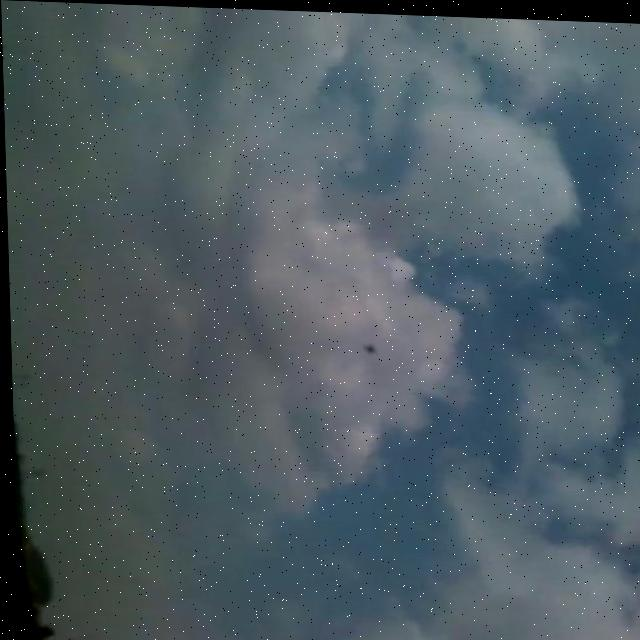drone: (360, 339, 383, 354)
